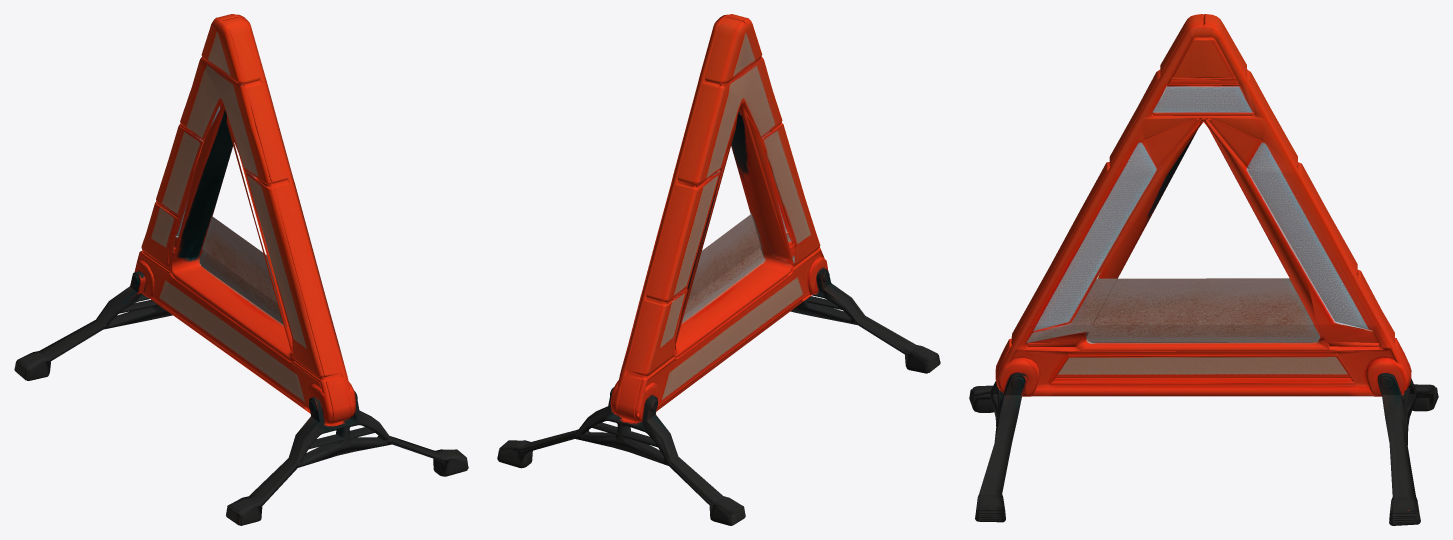
The model's file is tripo_convert_51954ba3-b3d5-4e8d-b2d4-e4fee4cb243a.glb.
The picture shows the model from 3 angles, left to right: view 1: azimuth 30°, elevation 25°; view 2: azimuth 150°, elevation 25°; view 3: azimuth 270°, elevation 25°; orthographic projection. The views are drawn at different scales.
Visible parts, largest first — view 1: tripo_node_51954ba3-b3d5-4e8d-b2d4-e4fee4cb243a; view 2: tripo_node_51954ba3-b3d5-4e8d-b2d4-e4fee4cb243a; view 3: tripo_node_51954ba3-b3d5-4e8d-b2d4-e4fee4cb243a.
Part boxes in pixels (box(x1,y1,x2,y2)): tripo_node_51954ba3-b3d5-4e8d-b2d4-e4fee4cb243a: box(14, 14, 468, 525); tripo_node_51954ba3-b3d5-4e8d-b2d4-e4fee4cb243a: box(497, 14, 940, 525); tripo_node_51954ba3-b3d5-4e8d-b2d4-e4fee4cb243a: box(969, 14, 1438, 525).
Bounding box in the file's own units: 0.6353 × 0.9995 × 0.9702.
1 material, 1 textured.
